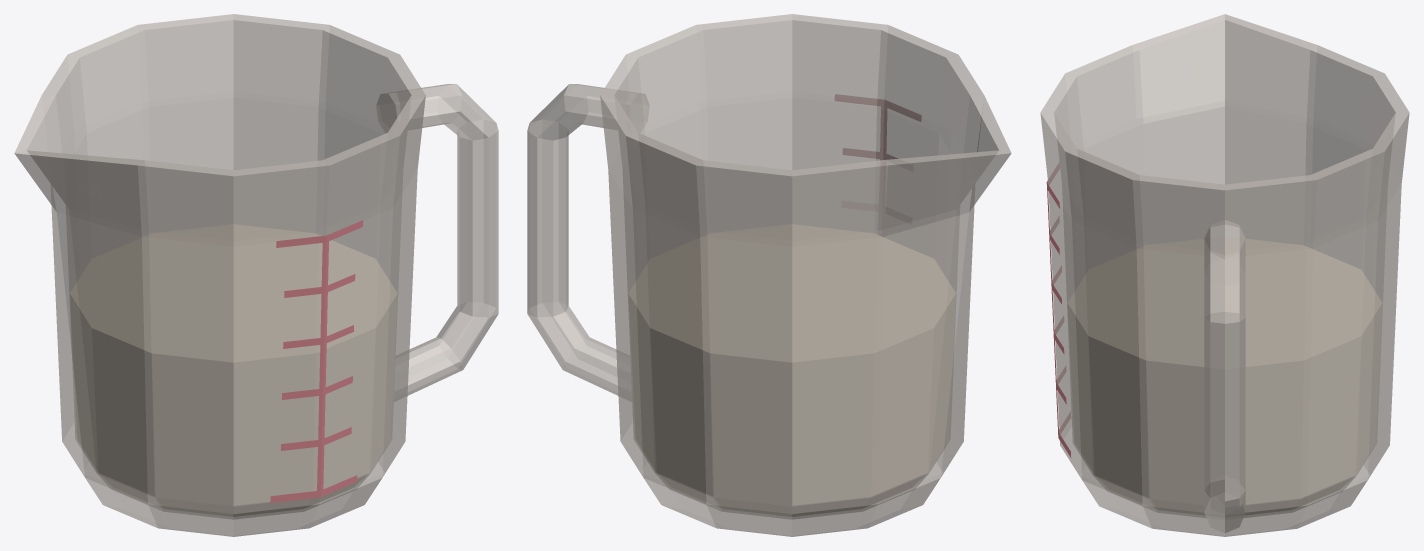
The model's file is 15-glass-measuring-jug.glb.
The picture shows the model from 3 angles, left to right: view 1: azimuth 30°, elevation 25°; view 2: azimuth 150°, elevation 25°; view 3: azimuth 270°, elevation 25°; orthographic projection. The views are drawn at different scales.
Visible parts, largest first — view 1: 02 Angular glass handle, 03 Cream liquid fill; view 2: 02 Angular glass handle, 03 Cream liquid fill; view 3: 02 Angular glass handle, 03 Cream liquid fill.
Part boxes in pixels (bbox=[...]): 02 Angular glass handle: bbox=[14, 14, 498, 536]; 03 Cream liquid fill: bbox=[70, 224, 397, 516]; 02 Angular glass handle: bbox=[527, 14, 1011, 536]; 03 Cream liquid fill: bbox=[628, 224, 955, 516]; 02 Angular glass handle: bbox=[1040, 14, 1409, 536]; 03 Cream liquid fill: bbox=[1068, 239, 1381, 514].
Bounding box in the file's own units: 2.72 × 2.09 × 1.88.
